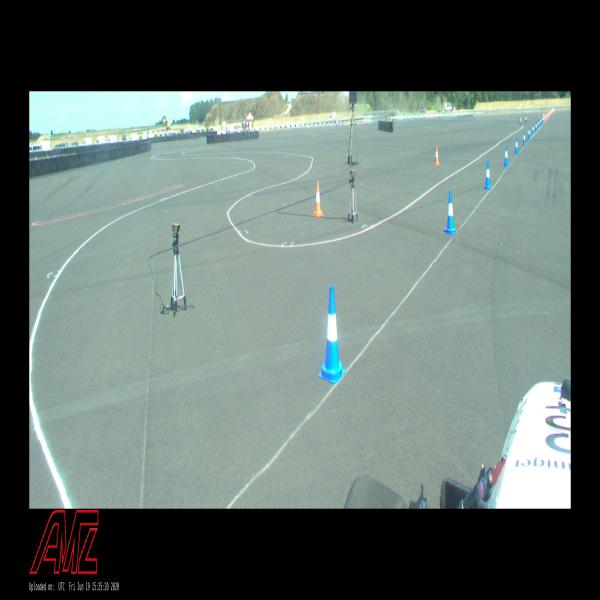blue_cone: (318, 286, 346, 384), (444, 190, 456, 235), (484, 160, 491, 190), (514, 137, 519, 154), (504, 146, 508, 167), (522, 131, 526, 146), (532, 124, 535, 134), (528, 127, 530, 140), (535, 122, 537, 131), (538, 119, 539, 128)
orange_cone: (313, 181, 323, 217), (434, 146, 440, 165)
